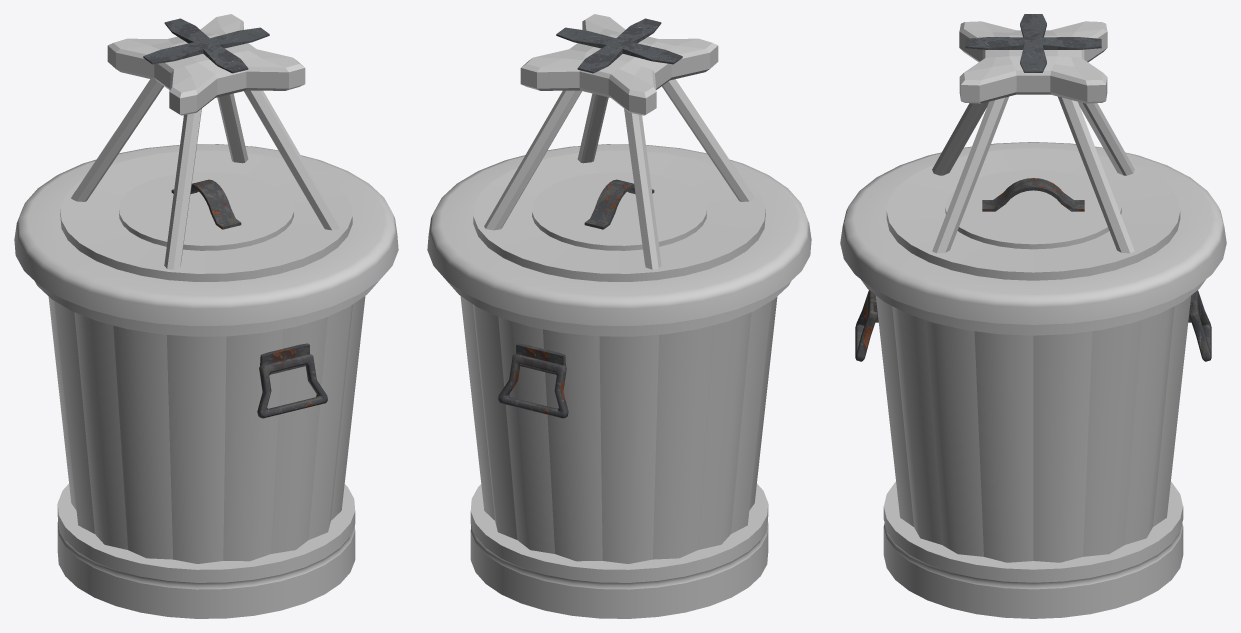
File: TrashBucket.fbx
3 renders of one model, left to right at view 1: azimuth 30°, elevation 25°; view 2: azimuth 150°, elevation 25°; view 3: azimuth 270°, elevation 25°, orthographic.
Parts seen in each view (by area): view 1: Trashcan, Lid, Drone, Propella, Grips, ThrashcanTopGrip; view 2: Trashcan, Lid, Drone, Propella, Grips, ThrashcanTopGrip; view 3: Trashcan, Lid, Drone, Propella, Grips, ThrashcanTopGrip.
Boxes of the visible parts, x1=… form: Trashcan: x1=34, y1=281, x2=378, y2=618; Lid: x1=14, y1=144, x2=398, y2=325; Drone: x1=71, y1=14, x2=341, y2=269; Propella: x1=143, y1=18, x2=269, y2=73; Grips: x1=257, y1=343, x2=327, y2=418; ThrashcanTopGrip: x1=171, y1=179, x2=241, y2=229; Trashcan: x1=447, y1=281, x2=791, y2=618; Lid: x1=427, y1=144, x2=811, y2=325; Drone: x1=484, y1=14, x2=754, y2=269; Propella: x1=556, y1=18, x2=682, y2=73; Grips: x1=498, y1=343, x2=568, y2=418; ThrashcanTopGrip: x1=584, y1=179, x2=654, y2=229; Trashcan: x1=861, y1=279, x2=1205, y2=618; Lid: x1=840, y1=142, x2=1226, y2=324; Drone: x1=932, y1=21, x2=1134, y2=253; Propella: x1=965, y1=14, x2=1101, y2=72; Grips: x1=855, y1=290, x2=1211, y2=361; ThrashcanTopGrip: x1=982, y1=178, x2=1084, y2=211.
Size of the model in its own units: 107 by 157 by 107.
